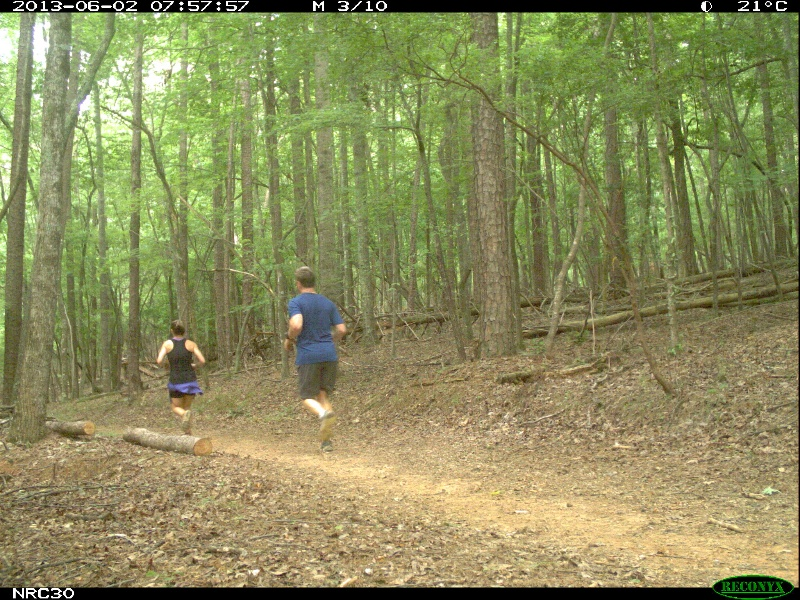human: (285, 264, 351, 456), (154, 318, 210, 441)
human legs: (290, 355, 344, 450), (170, 383, 201, 437)
